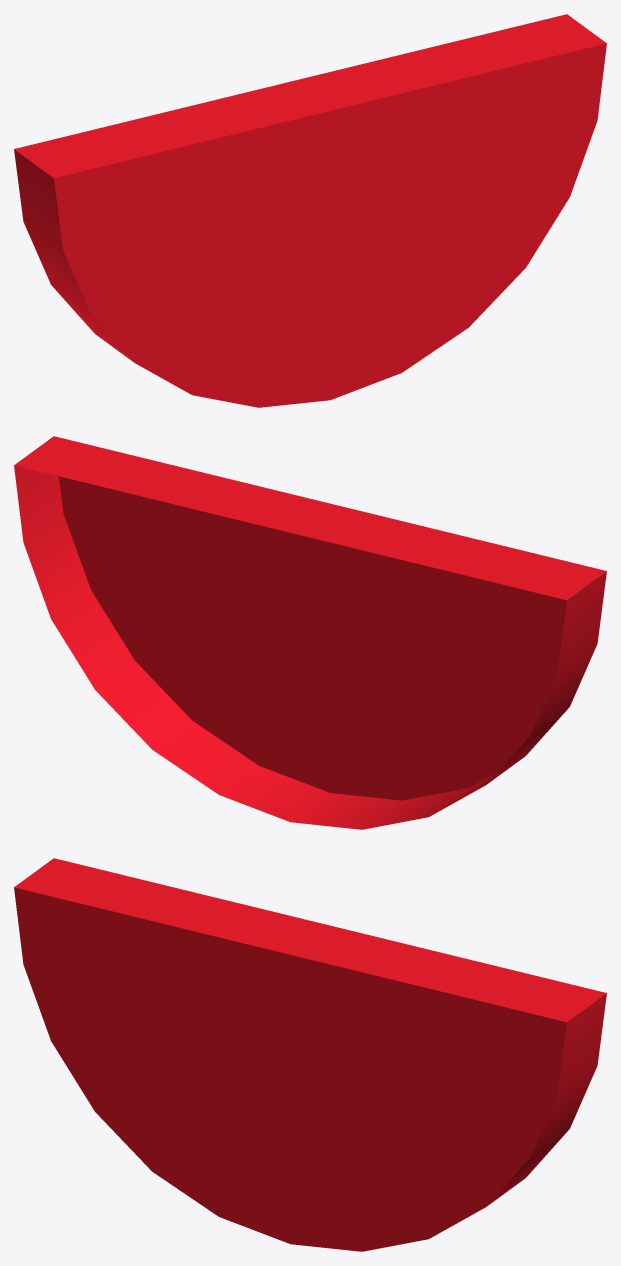
The model's file is original-31.obj.
The picture shows the model from 3 angles, top to bottom: view 1: azimuth 30°, elevation 25°; view 2: azimuth 150°, elevation 25°; view 3: azimuth 330°, elevation 25°; orthographic projection.
Parts seen in each view (by area): view 1: 3dw.200065ca496c39086372ead55db87fa8/Model/mesh25/mesh25-geometr; view 2: 3dw.200065ca496c39086372ead55db87fa8/Model/mesh25/mesh25-geometr; view 3: 3dw.200065ca496c39086372ead55db87fa8/Model/mesh25/mesh25-geometr.
Part boxes in pixels (bbox=[...]): 3dw.200065ca496c39086372ead55db87fa8/Model/mesh25/mesh25-geometr: bbox=[14, 14, 606, 407]; 3dw.200065ca496c39086372ead55db87fa8/Model/mesh25/mesh25-geometr: bbox=[14, 436, 606, 829]; 3dw.200065ca496c39086372ead55db87fa8/Model/mesh25/mesh25-geometr: bbox=[14, 858, 606, 1251].
Bounding box in the file's own units: 0.0707 × 0.0354 × 0.00884.
